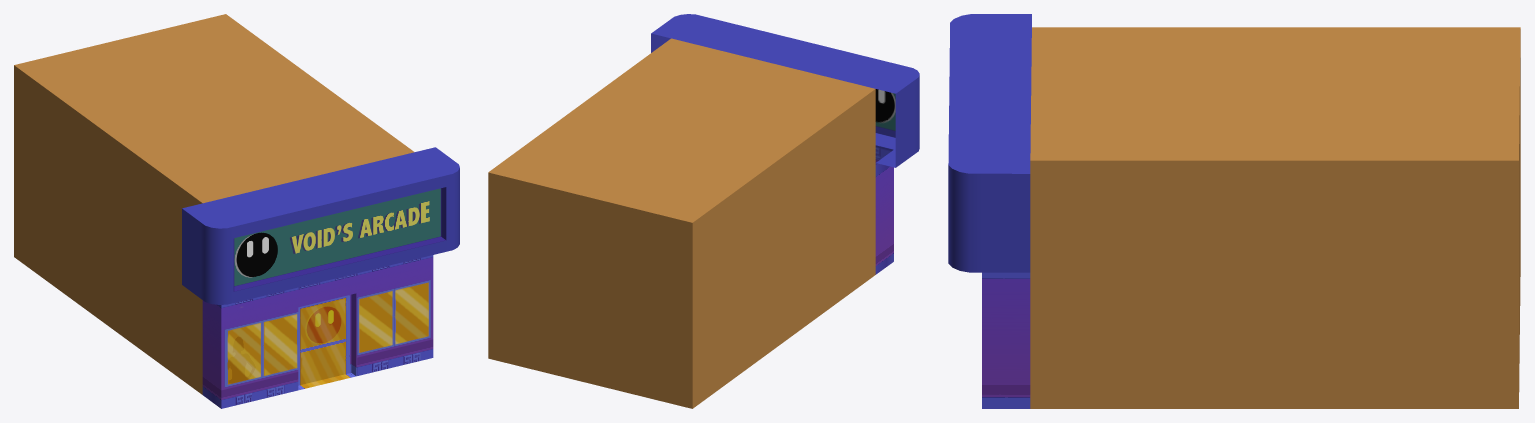
The model's file is arcade.fbx.
The picture shows the model from 3 angles, left to right: view 1: azimuth 30°, elevation 25°; view 2: azimuth 150°, elevation 25°; view 3: azimuth 270°, elevation 25°; orthographic projection. The views are drawn at different scales.
Visible parts, largest first — view 1: Bldg_Combo_3:Inside_Building2, Bldg_Combo_3:Building:pCube1; view 2: Bldg_Combo_3:Inside_Building2, Bldg_Combo_3:Building:pCube1; view 3: Bldg_Combo_3:Inside_Building2, Bldg_Combo_3:Building:pCube1.
Boxes of the visible parts, x1,y1,x2,y2 form: Bldg_Combo_3:Inside_Building2: [14, 14, 414, 394]; Bldg_Combo_3:Building:pCube1: [182, 147, 459, 408]; Bldg_Combo_3:Inside_Building2: [488, 38, 875, 408]; Bldg_Combo_3:Building:pCube1: [651, 14, 919, 274]; Bldg_Combo_3:Inside_Building2: [1030, 27, 1520, 408]; Bldg_Combo_3:Building:pCube1: [948, 14, 1031, 408].
Bounding box in the file's own units: 6.32 × 4.57 × 9.55.
2 materials, 1 textured.
